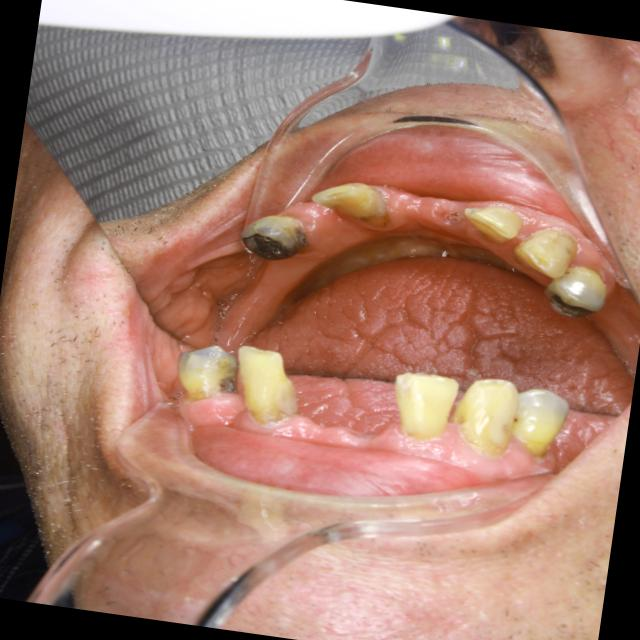tooth: (501, 213, 598, 291), (301, 173, 411, 238), (528, 258, 622, 331), (447, 187, 546, 256), (232, 208, 329, 274)
